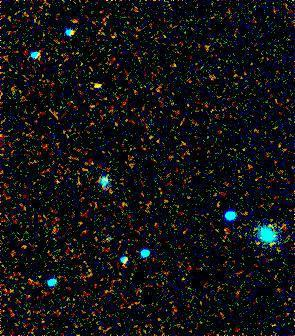star: (86, 72, 116, 102)
